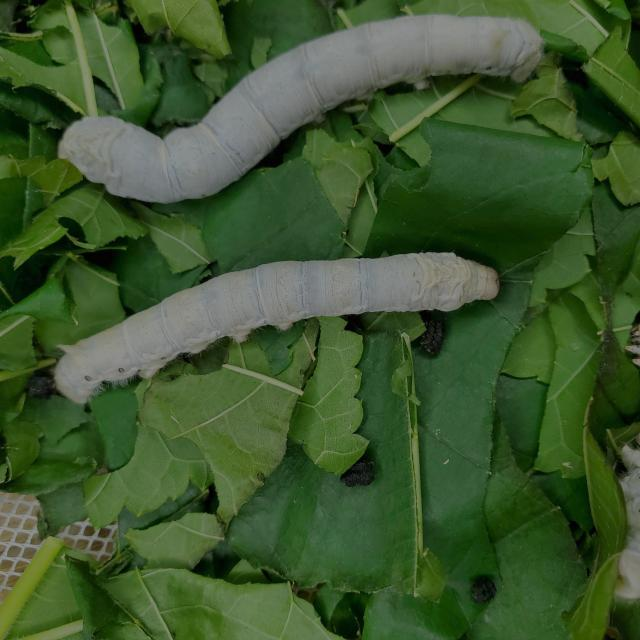Healthy: (24, 2, 572, 218), (17, 240, 516, 419)
